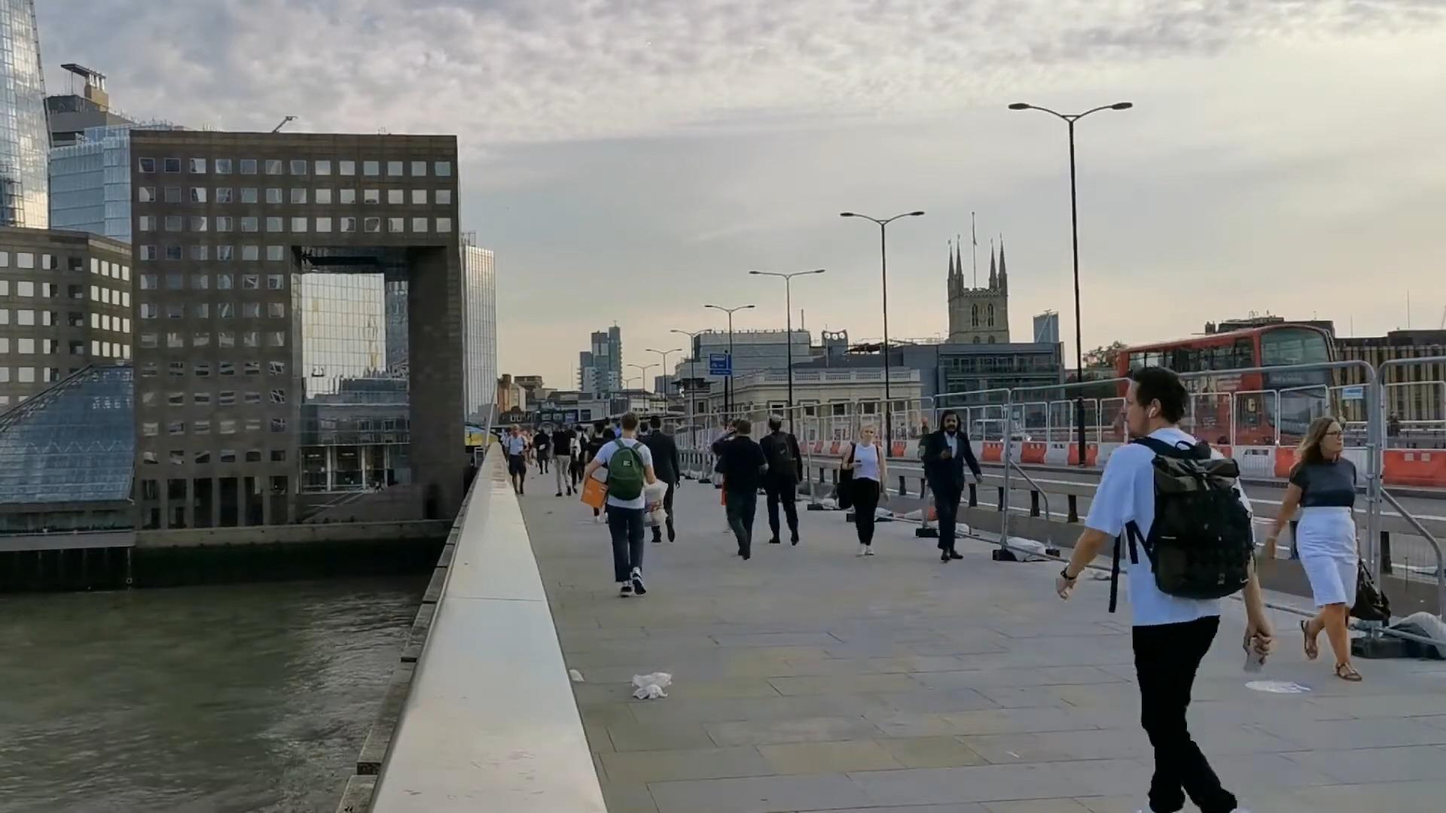no-helmet: (1122, 366, 1191, 438), (1302, 416, 1344, 455), (940, 409, 962, 436), (620, 411, 638, 433), (860, 423, 878, 442), (734, 419, 751, 436), (768, 414, 782, 431), (593, 421, 606, 437), (650, 414, 661, 430)
